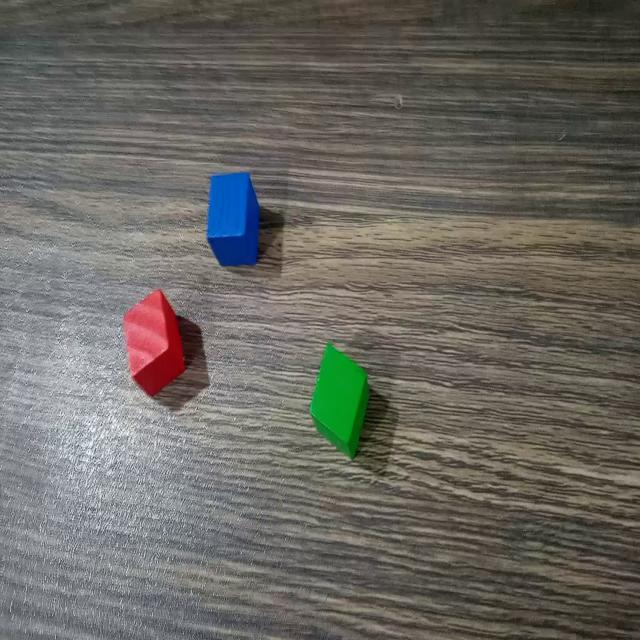cube: (306, 337, 373, 462), (119, 284, 186, 403), (204, 170, 261, 270)
